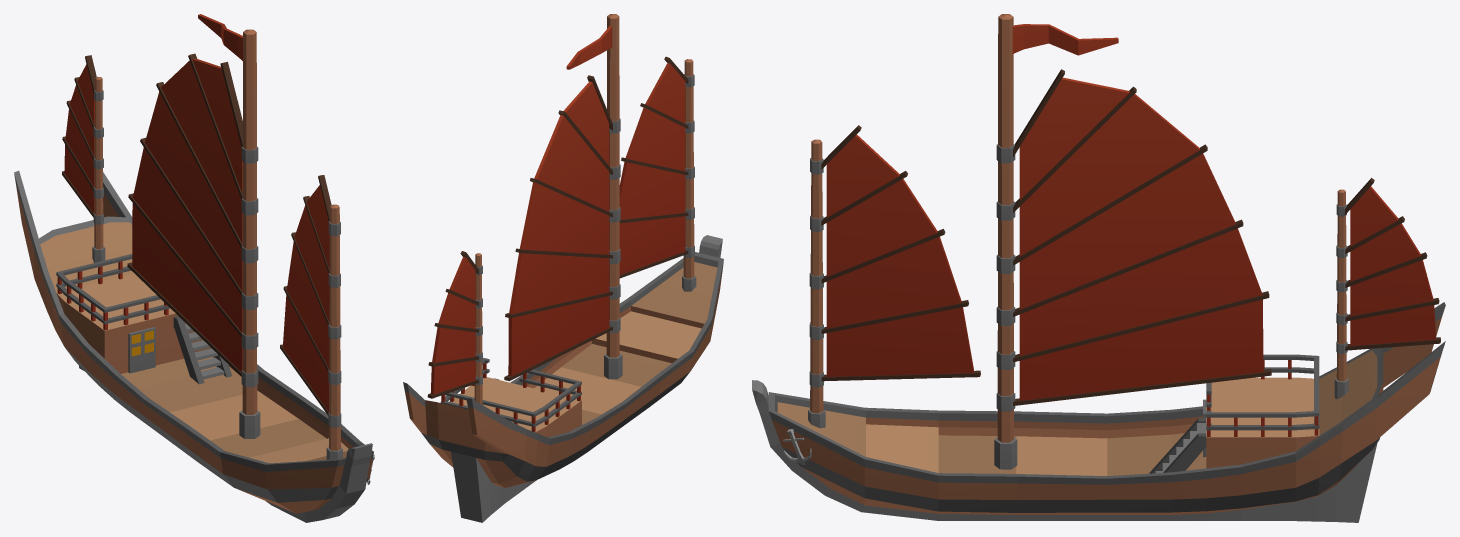
The model's file is boss-blackthorn.glb.
3 renders of one model, left to right at view 1: azimuth 30°, elevation 25°; view 2: azimuth 150°, elevation 25°; view 3: azimuth 270°, elevation 25°, orthographic. The views are drawn at different scales.
Parts seen in each view (by area): view 1: chinese ship large; view 2: chinese ship large; view 3: chinese ship large.
Part boxes in pixels (x1=…): chinese ship large: x1=14, y1=14, x2=374, y2=522; chinese ship large: x1=403, y1=14, x2=723, y2=522; chinese ship large: x1=752, y1=14, x2=1445, y2=522.
Size of the model in its own units: 7.23 by 25.96 by 32.52.
1 material, 1 textured.
